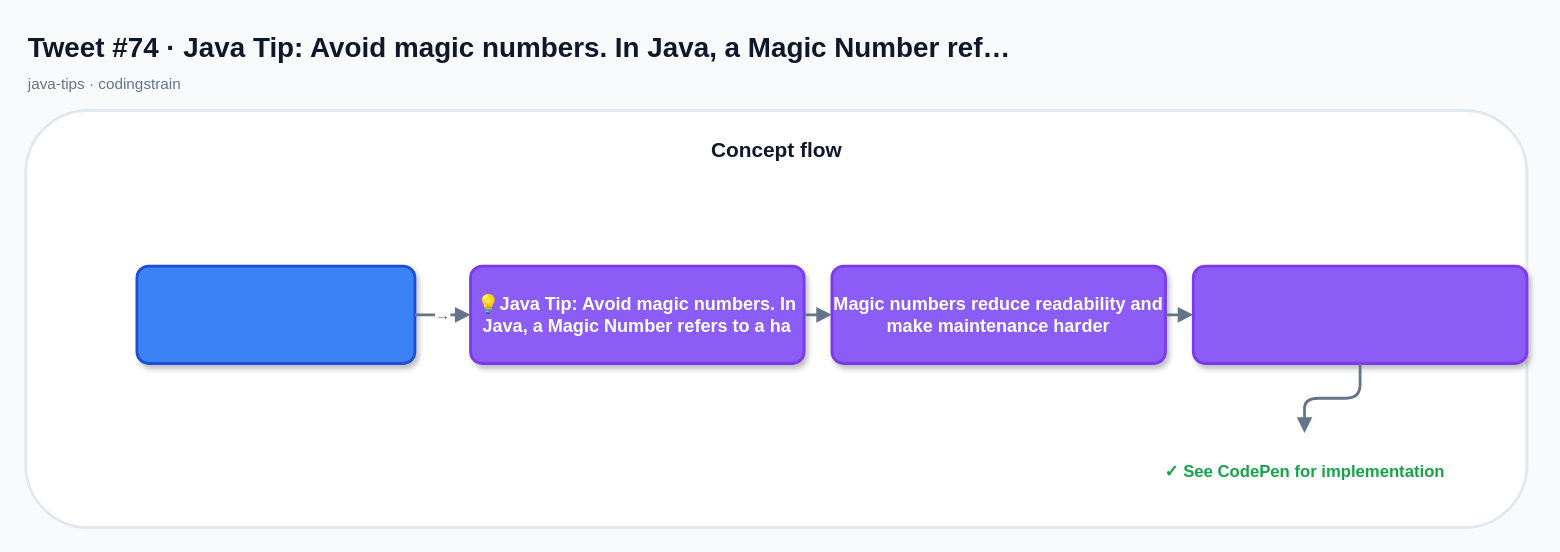
Image size: 1560x552. Some labels were removed from this diagram. Each missing label, with the centre of its shape:
#Java #CleanCode: the point at 1361,316
Problem / context: the point at 276,316
